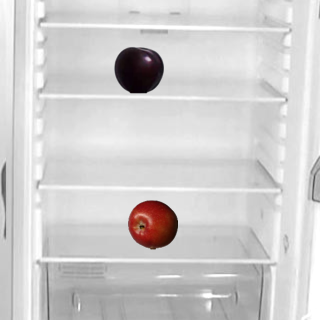Apple Braeburn: (127, 199, 177, 249)
Cherry Wax Black: (113, 44, 163, 94)
